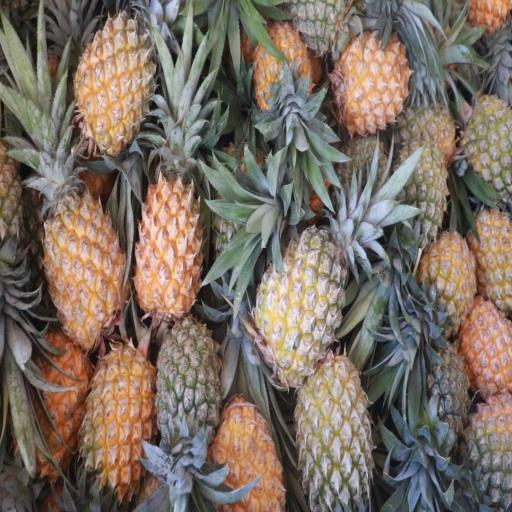------------------------------: (264, 234, 346, 378), (297, 359, 371, 512)
Pineapple - v8 v1: (46, 174, 121, 342), (84, 350, 157, 496), (76, 11, 153, 146), (139, 174, 206, 323), (24, 334, 88, 472), (215, 398, 286, 511), (341, 32, 412, 128), (256, 28, 318, 124), (423, 233, 475, 329)
